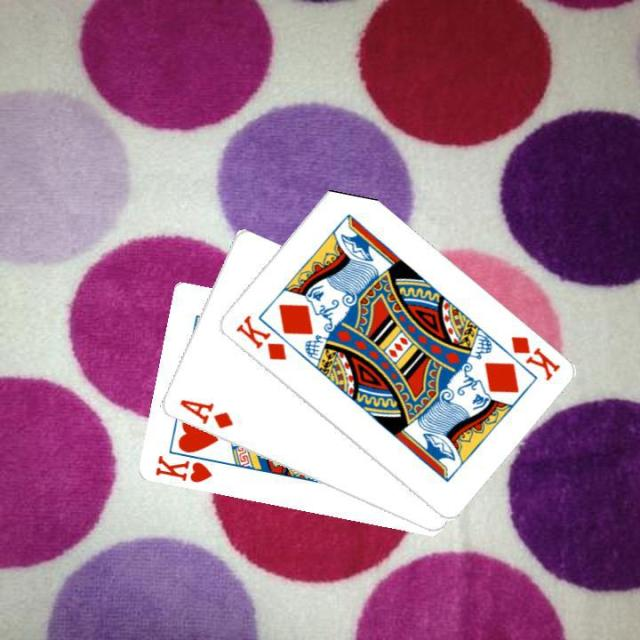AD: (175, 395, 235, 431)
KD: (231, 311, 288, 363), (506, 332, 562, 383)
KH: (151, 452, 213, 486)
